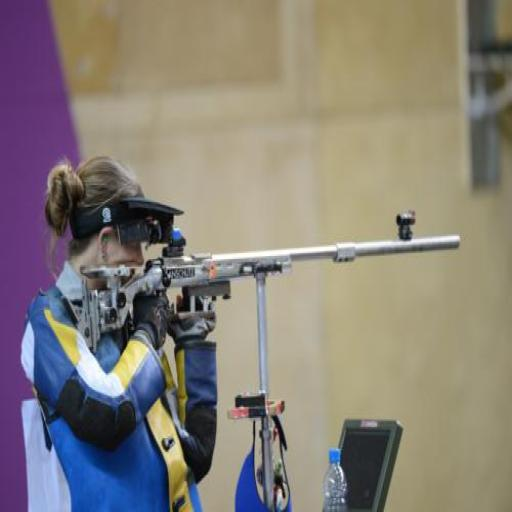shooting: (18, 152, 222, 510)
